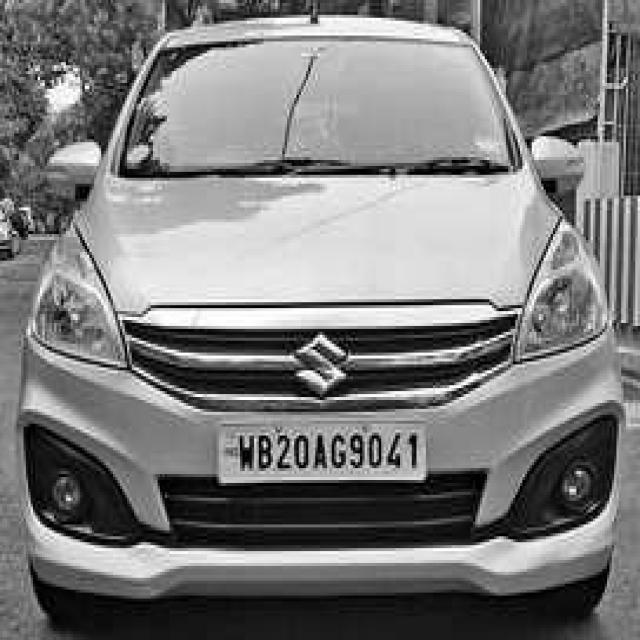car: (16, 12, 626, 640)
license-plate: (219, 424, 428, 486)
